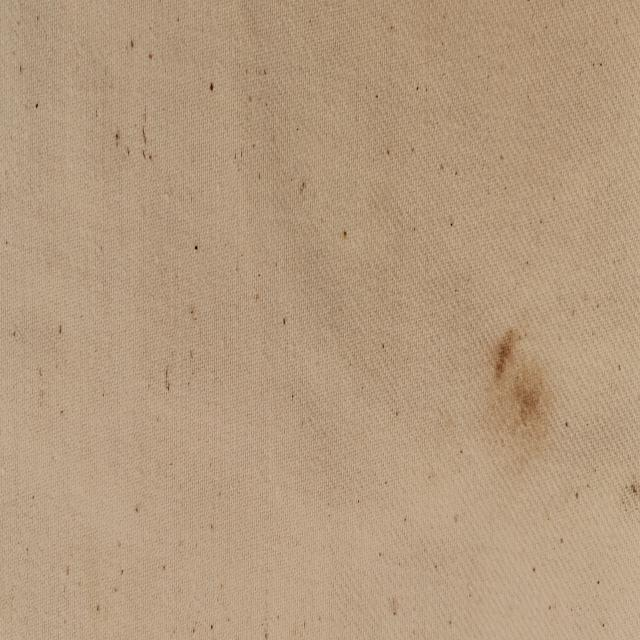taaaches: (488, 329, 548, 433), (612, 475, 640, 525)
